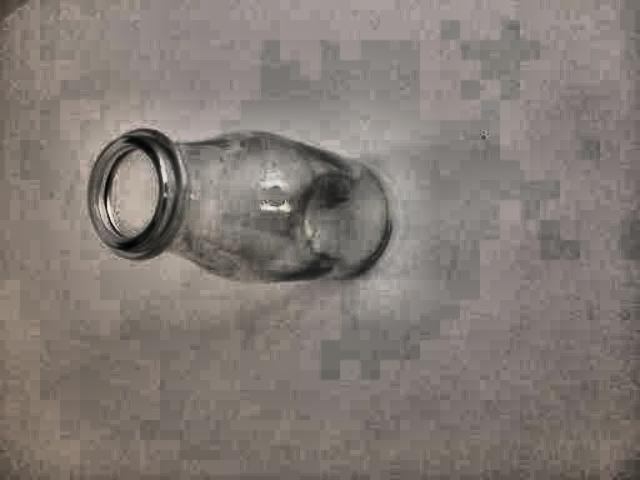Almennt: (82, 114, 408, 322)
